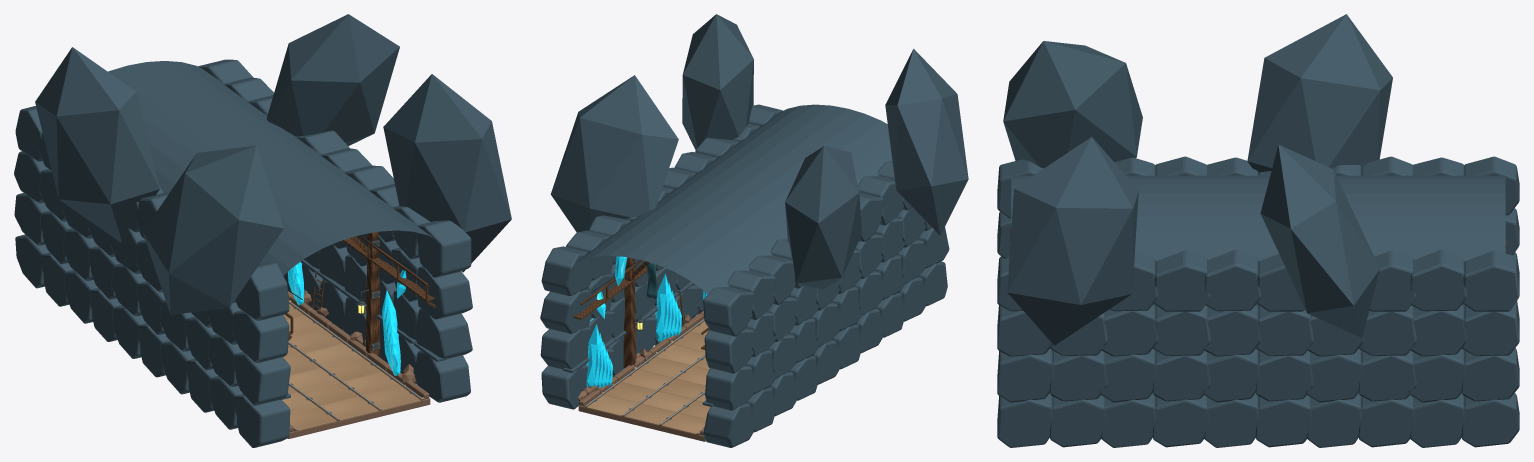
The model's file is crystal_track.glb.
The picture shows the model from 3 angles, left to right: view 1: azimuth 30°, elevation 25°; view 2: azimuth 150°, elevation 25°; view 3: azimuth 270°, elevation 25°; orthographic projection. The views are drawn at different scales.
Parts seen in each view (by area): view 1: crystal_track; view 2: crystal_track; view 3: crystal_track.
Part boxes in pixels (box(x1,y1,x2,y2)): crystal_track: box(14, 14, 511, 447); crystal_track: box(540, 14, 968, 447); crystal_track: box(997, 14, 1519, 447).
Size of the model in its own units: 20.09 by 16.79 by 25.38.
18 materials, 5 textured.
